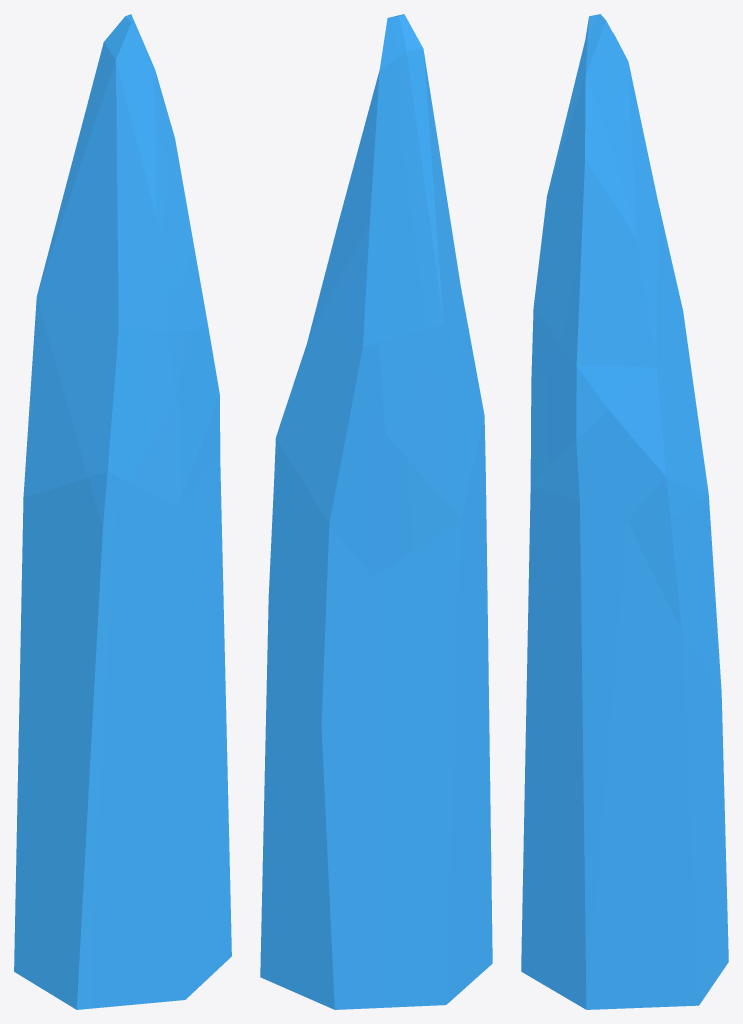
Rendered from mining_PP_Crystal_Single_08_Blue.gltf.
3 views of the same model, side by side, from view 1: azimuth 30°, elevation 25°; view 2: azimuth 150°, elevation 25°; view 3: azimuth 270°, elevation 25° (orthographic).
Parts seen in each view (by area): view 1: PP_Crystal_Single_08_Blue; view 2: PP_Crystal_Single_08_Blue; view 3: PP_Crystal_Single_08_Blue.
Part boxes in pixels (left/top/right/bottom): PP_Crystal_Single_08_Blue: left=14, top=14, right=231, bottom=1009; PP_Crystal_Single_08_Blue: left=260, top=14, right=492, bottom=1009; PP_Crystal_Single_08_Blue: left=521, top=14, right=728, bottom=1009.
Bounding box in the file's own units: 0.1361 × 0.687 × 0.1364.
1 material, 1 textured.
